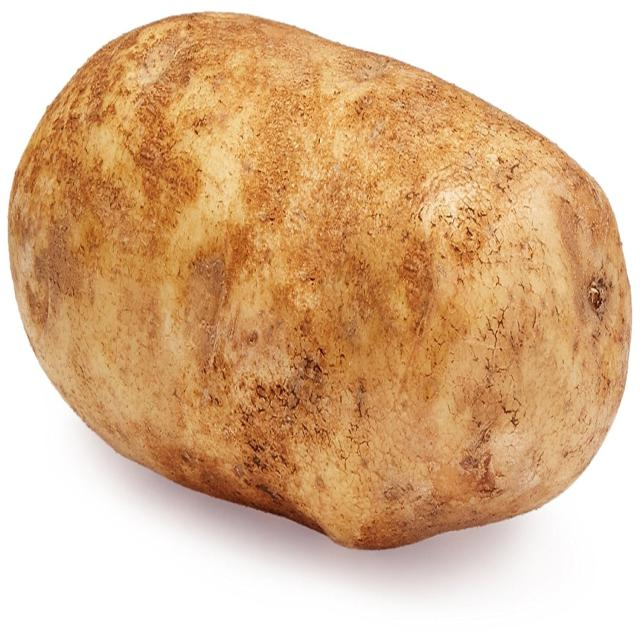potato: (10, 13, 633, 548)
